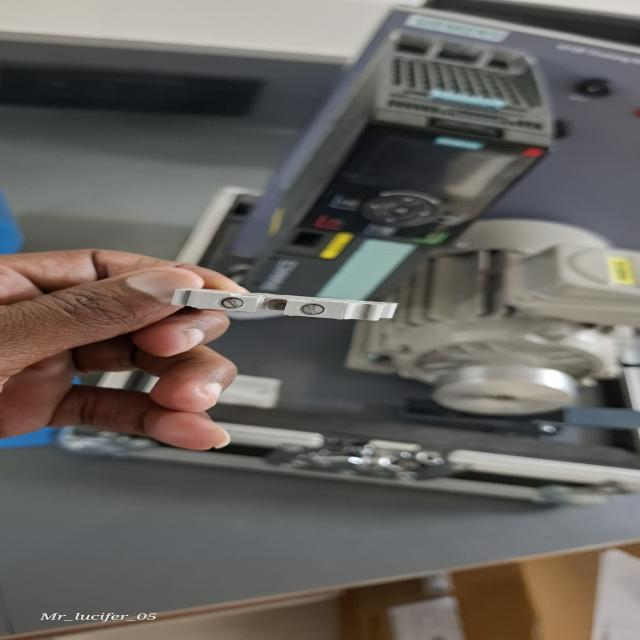Inverted: (170, 282, 417, 326)
